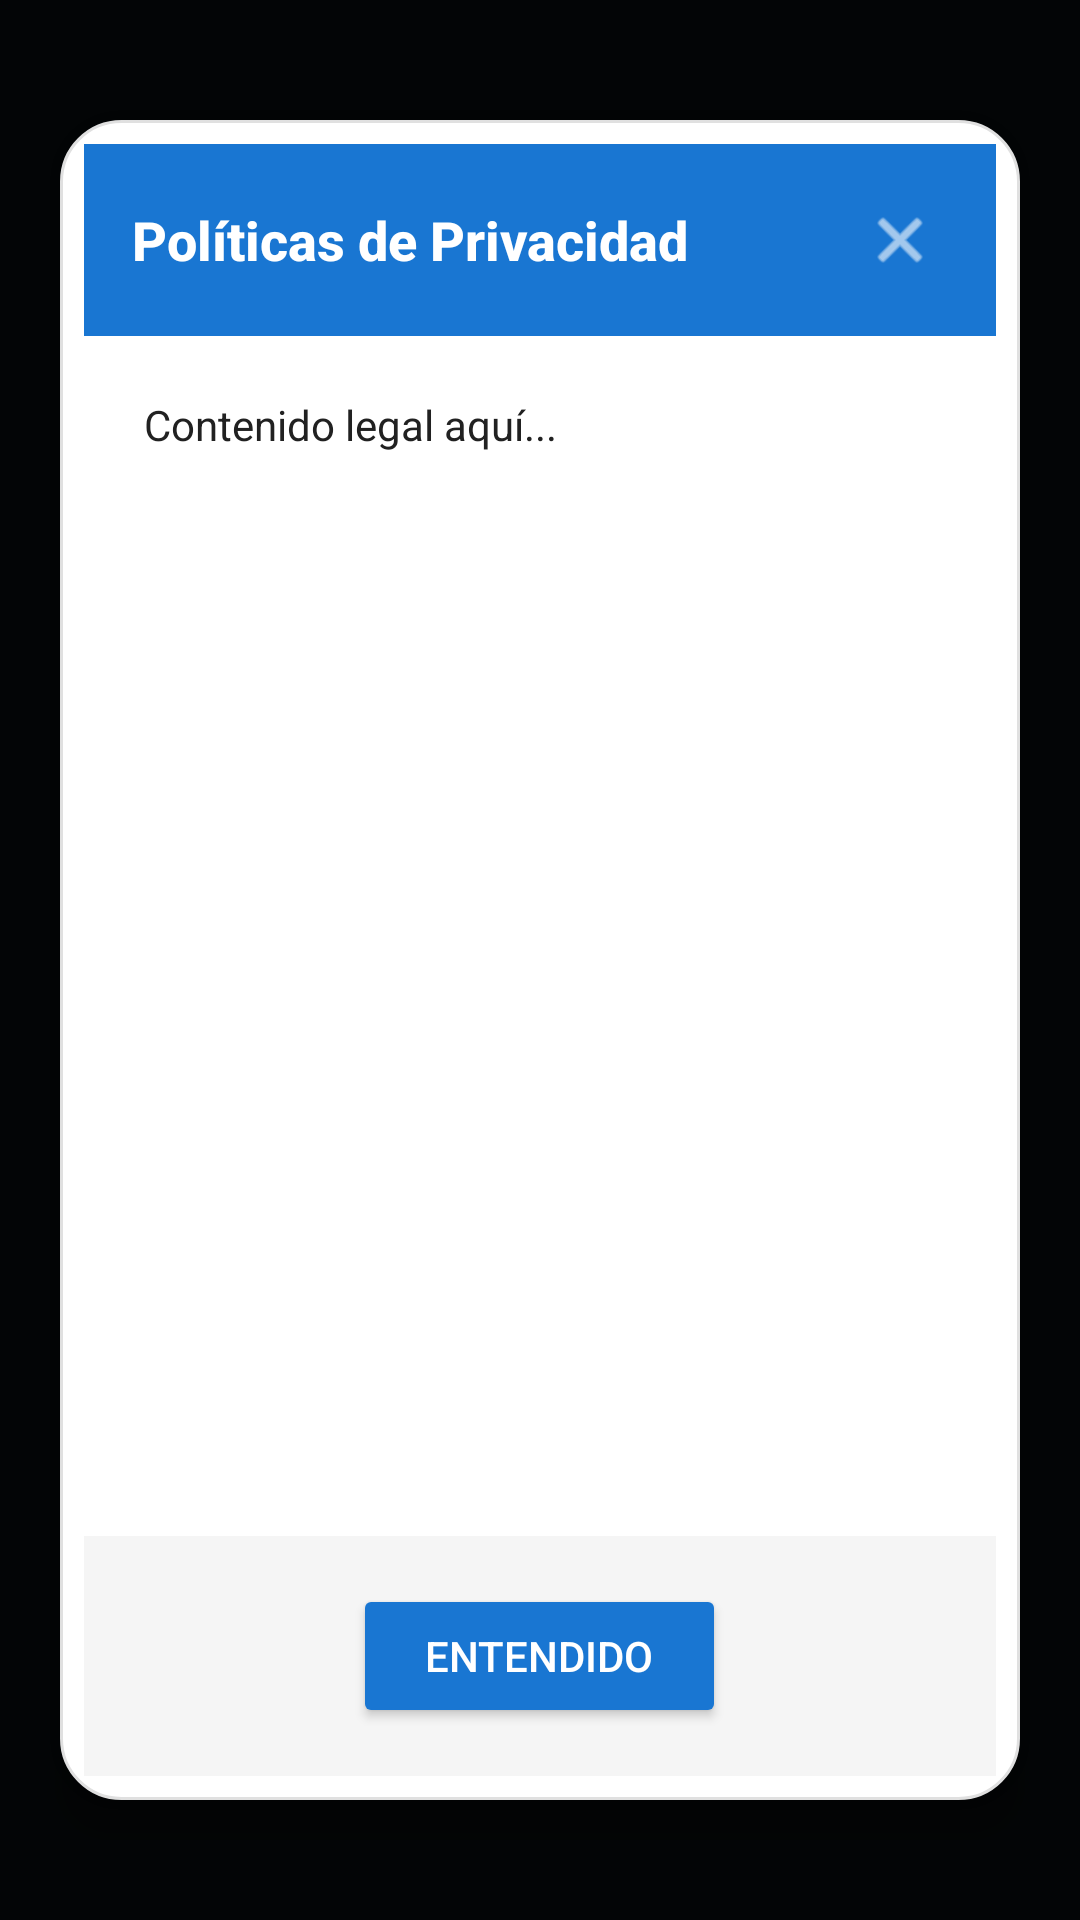

Where icons sit on this 1080w x 1920h app screen, as (x1, y1, x2, y2):
close clear cancel: (877, 217, 923, 263)
